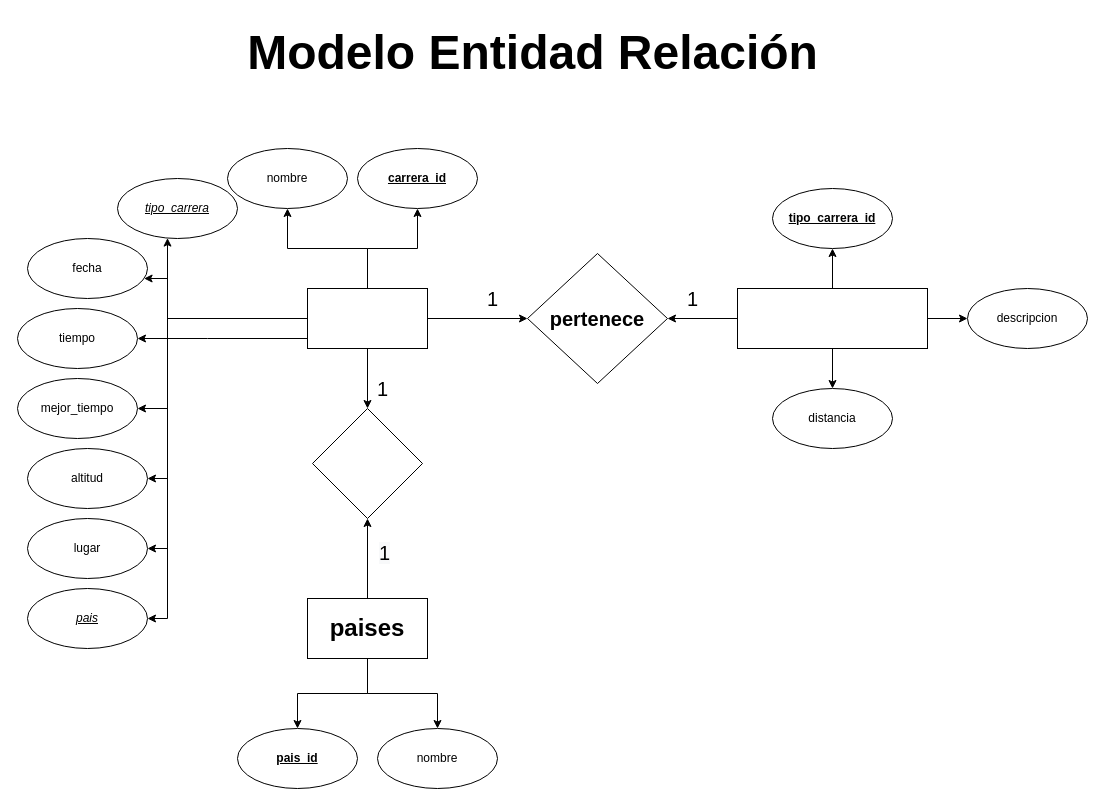
Image size: 1105x806. Some labels were removed from this diagram. Each missing label, with the centre of its shape:
"carreras" belongs at [367,318].
"se corre" belongs at [367,463].
"tipos_carreras" belongs at [832,318].
